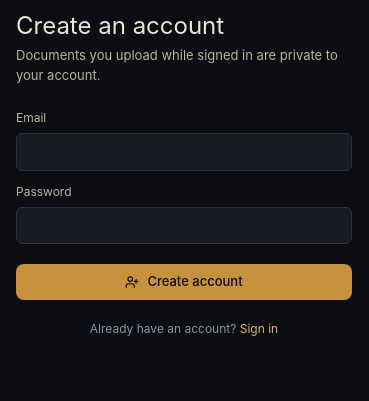
RegisterPage › shows the backend's error message on a 409 (email already registered), and does not redirect
Type "alice@example.com" into the field labelled "Email" at point(184, 152), box top-left (16, 133), bottom-right (352, 170)
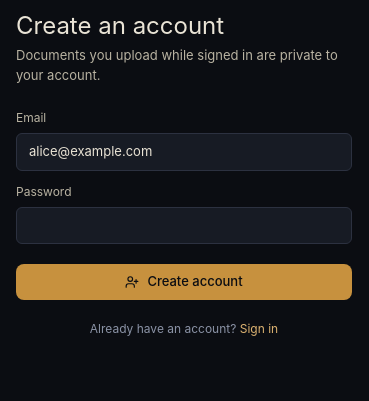
Type "hunter2pass" into the password field labelled "Password" at point(184, 225), box top-left (16, 206), bottom-right (352, 244)
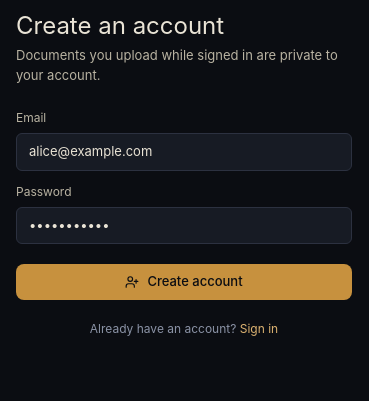
Click the button "Create account" at point(184, 282), box top-left (16, 264), bottom-right (352, 300)
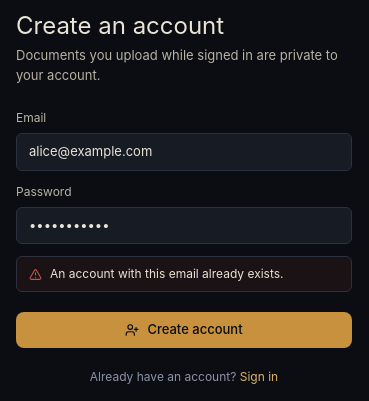
Result: the text "An account with this email already exists." is shown at top-left (16, 256), bottom-right (352, 292)
